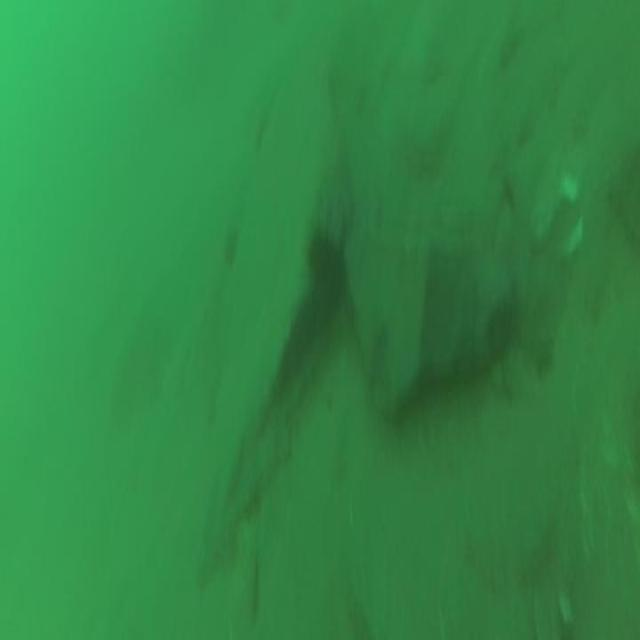echinus: (304, 223, 337, 295)
